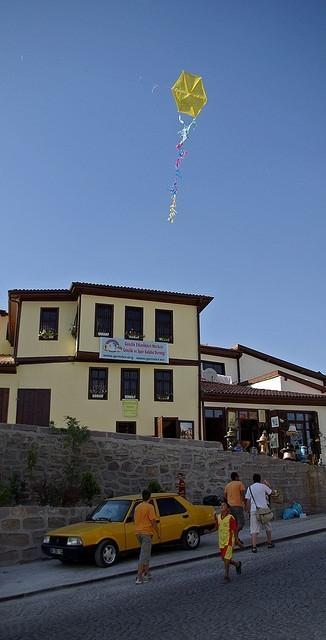car: (41, 493, 219, 568)
